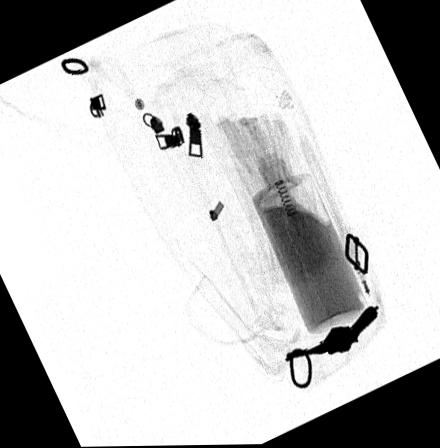Gun: (285, 306, 381, 360)
